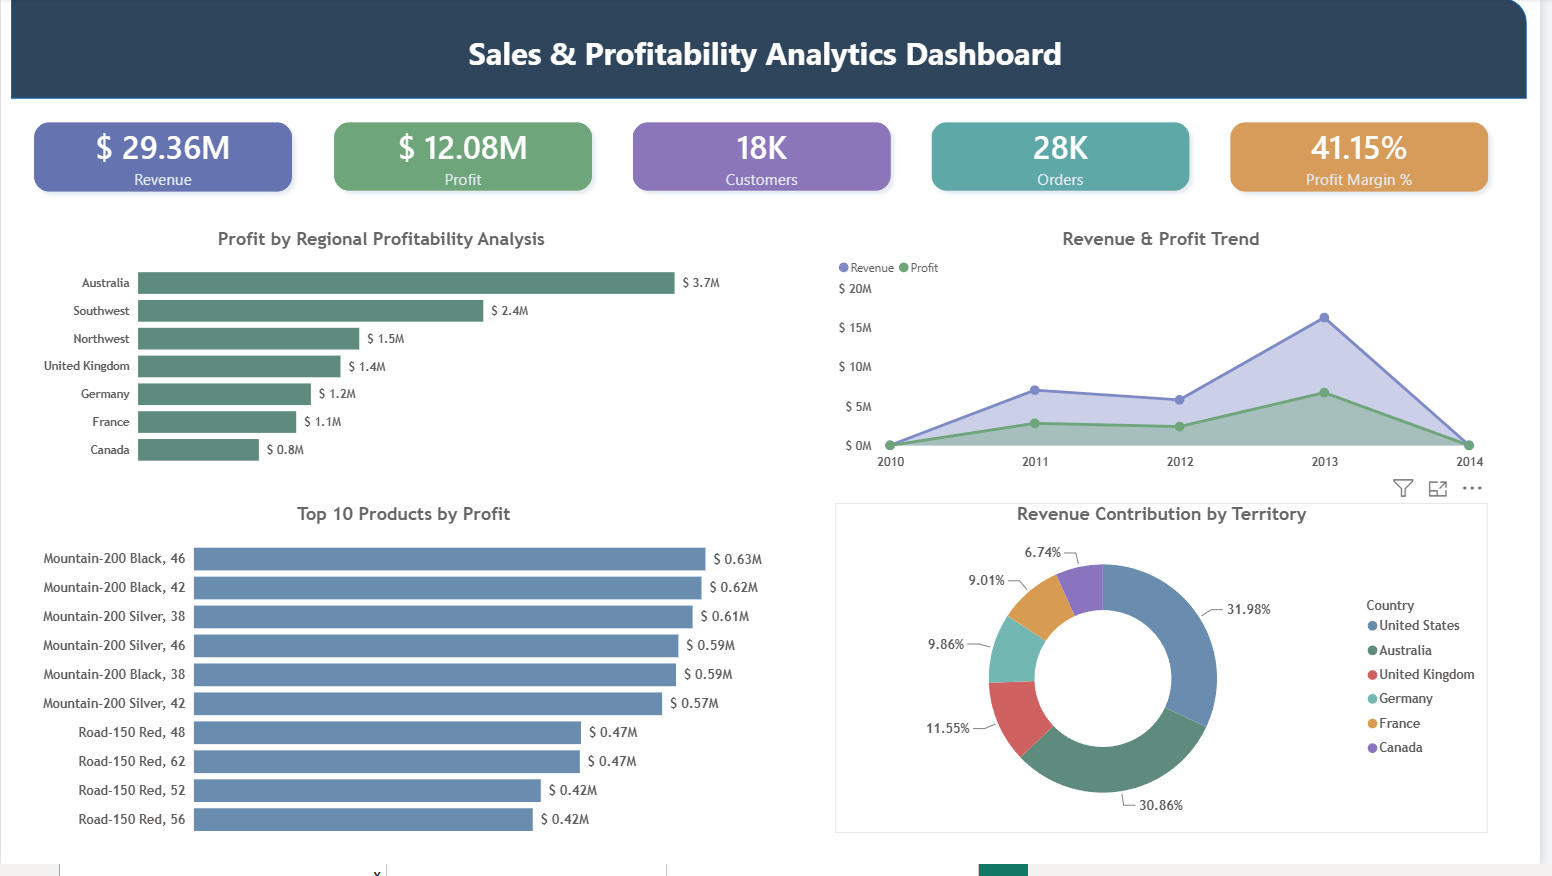

The page's visual inventory and layout, read from the dashboard file:
{"tool":"powerbi","page":{"name":"Sales & Profitability Analytics Dashboard","canvas":[1600,900],"ordinal":0},"visuals":[{"type":"shape","box":[10.9,0,1575.3,104.6],"z":0},{"type":"cardVisual","fields":{"Data":["Measure Table 1.Revenue"]},"box":[10.9,104.6,316.9,120.2],"z":1000},{"type":"cardVisual","fields":{"Data":["Measure Table 1.Profit"]},"box":[322.3,105.4,316,119.8],"z":2000},{"type":"cardVisual","fields":{"Data":["Measure Table 1.Customers"]},"box":[632.8,105.4,316,119.8],"z":3000},{"type":"cardVisual","fields":{"Data":["Measure Table 1.Orders"]},"box":[943.3,105.4,316,119.8],"z":4000},{"type":"cardVisual","fields":{"Data":["Measure Table 1.Profit Margin %"]},"box":[1253.7,104.6,316,120.2],"z":5000},{"type":"clusteredBarChart","fields":{"Category":["DimSalesTerritory.SalesTerritoryRegion"],"Y":["Measure Table 1.Profit"]},"box":[37.5,238.9,715.1,259.2],"z":6000},{"type":"lineChart","title":"Revenue & Profit Trend","fields":{"Category":["DimDate.CalendarYear"],"Y":["Measure Table 1.Revenue","Measure Table 1.Profit"]},"box":[865,238.9,680.7,259.2],"z":7000},{"type":"clusteredBarChart","title":"Top 10 Products by Profit","fields":{"Category":["DimProduct.EnglishProductName"],"Y":["Measure Table 1.Profit"]},"box":[37.3,524.7,761.9,358.5],"z":8000},{"type":"donutChart","title":"Revenue Contribution by Territory","fields":{"Category":["DimSalesTerritory.SalesTerritoryCountry"],"Y":["Measure Table 1.Revenue"]},"box":[866.5,524.7,679.7,343.6],"z":9000}]}

Visuals, with their boxes in screenshot pixels (x1, y1, x2, y2), scaled from the page's 1600x900 canvas onto the 1552x876 screenshot:
shape: 11, 0, 1539, 102
cardVisual - Measure Table 1.Revenue: 11, 102, 318, 219
cardVisual - Measure Table 1.Profit: 313, 103, 619, 219
cardVisual - Measure Table 1.Customers: 614, 103, 920, 219
cardVisual - Measure Table 1.Orders: 915, 103, 1222, 219
cardVisual - Measure Table 1.Profit Margin %: 1216, 102, 1523, 219
clusteredBarChart - DimSalesTerritory.SalesTerritoryRegion x Measure Table 1.Profit: 36, 233, 730, 485
"Revenue & Profit Trend" lineChart: 839, 233, 1499, 485
"Top 10 Products by Profit" clusteredBarChart: 36, 511, 775, 860
"Revenue Contribution by Territory" donutChart: 841, 511, 1500, 845
